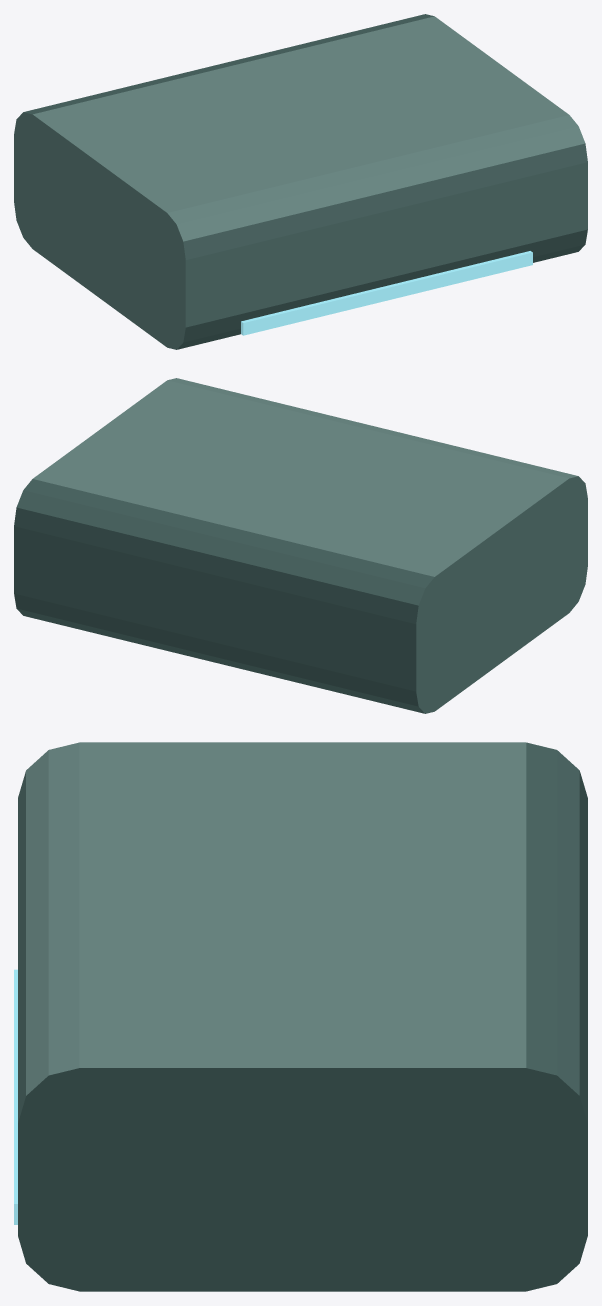
The model's file is Door_Lintel.gltf.
3 renders of one model, top to bottom at view 1: azimuth 30°, elevation 25°; view 2: azimuth 150°, elevation 25°; view 3: azimuth 270°, elevation 25°, orthographic. The views are drawn at different scales.
Visible parts, largest first — view 1: Door_Lintel_baked; view 2: Door_Lintel_baked; view 3: Door_Lintel_baked.
Boxes of the visible parts, x1=… form: Door_Lintel_baked: x1=14, y1=14, x2=587, y2=349; Door_Lintel_baked: x1=14, y1=378, x2=587, y2=713; Door_Lintel_baked: x1=14, y1=742, x2=587, y2=1291.
Bounding box in the file's own units: 1 × 0.32 × 0.745.
